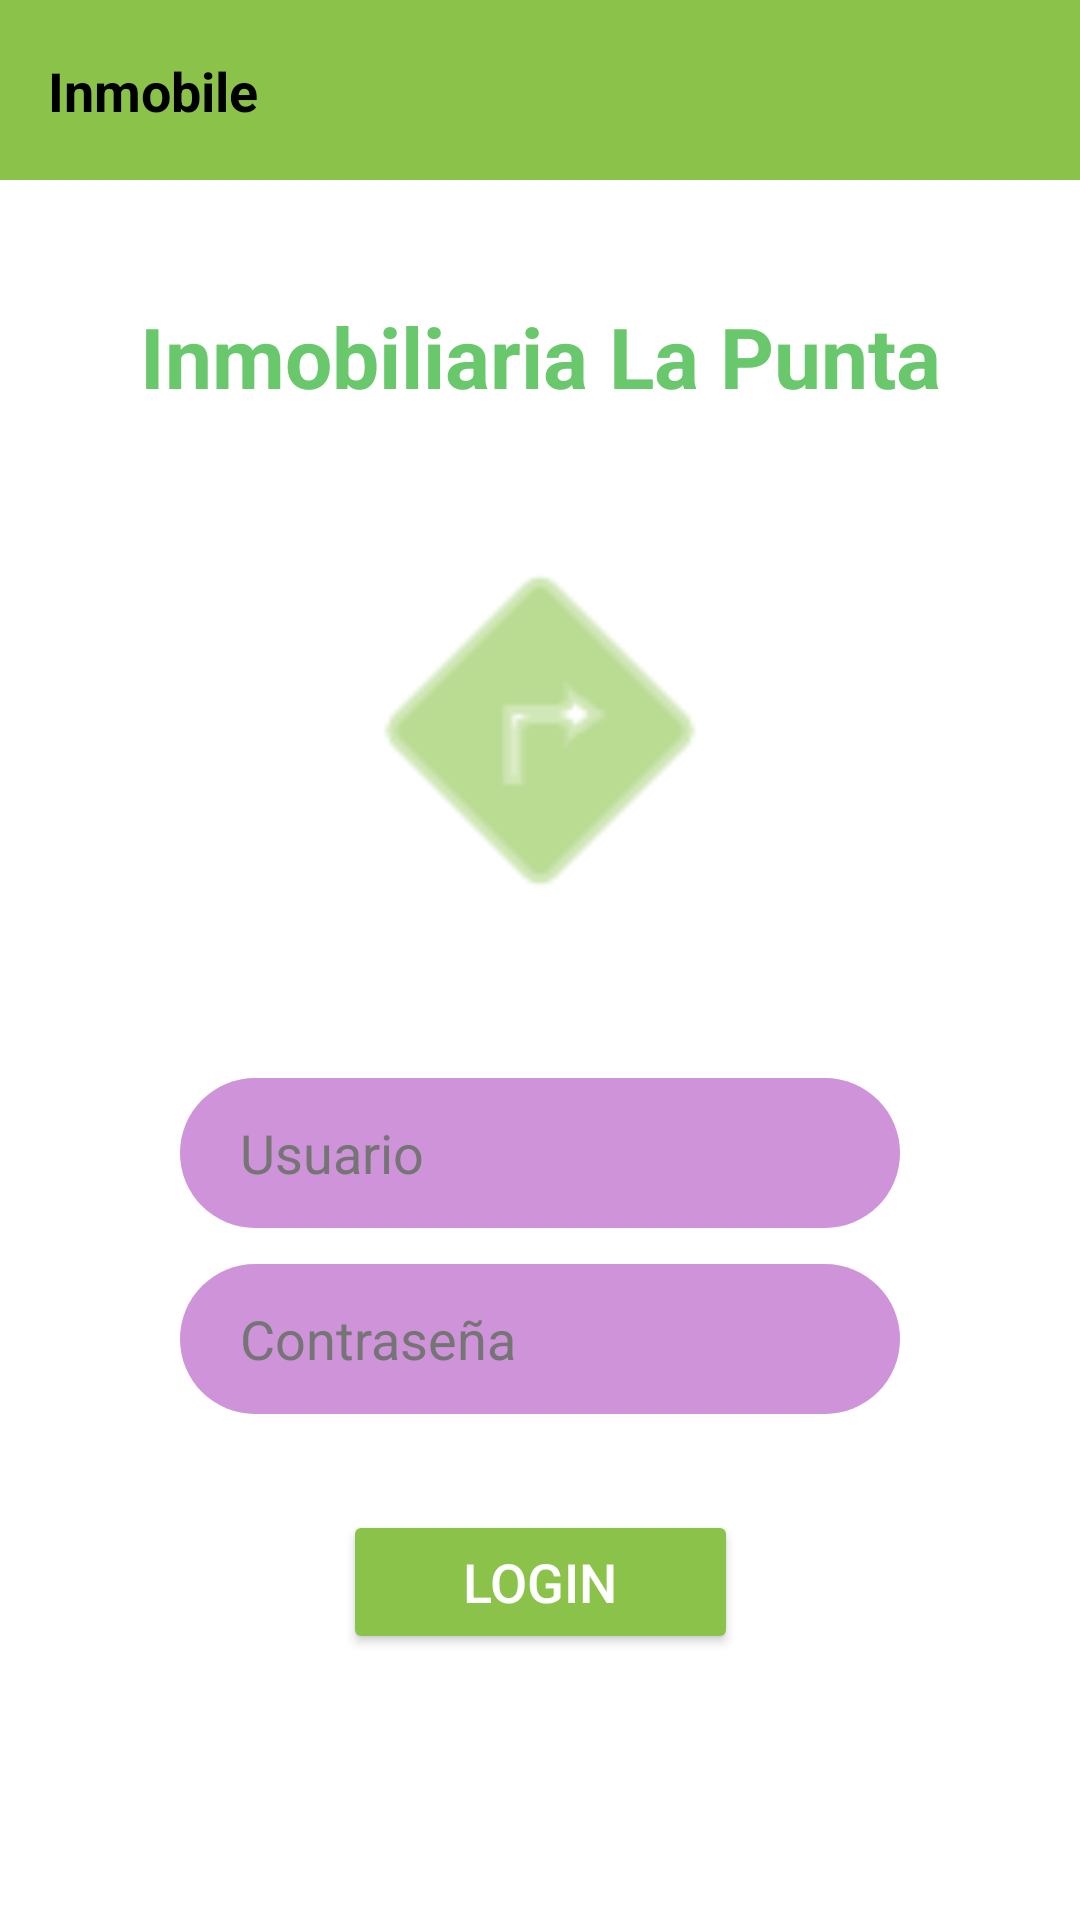

Where icons sit on this 1080px x 1920px app screen, as (x1, y1, x2, y2):
directions: (385, 577, 695, 884)
